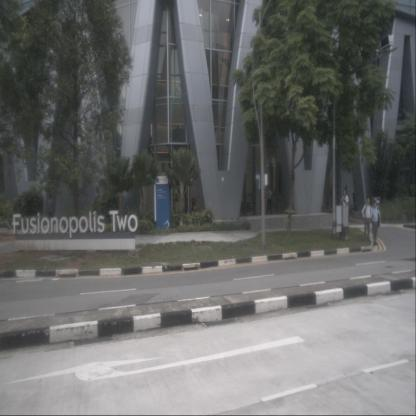human-pedestrian-adult: (361, 196, 373, 242), (370, 200, 381, 246), (47, 193, 56, 229), (341, 189, 349, 229), (264, 186, 272, 214)
